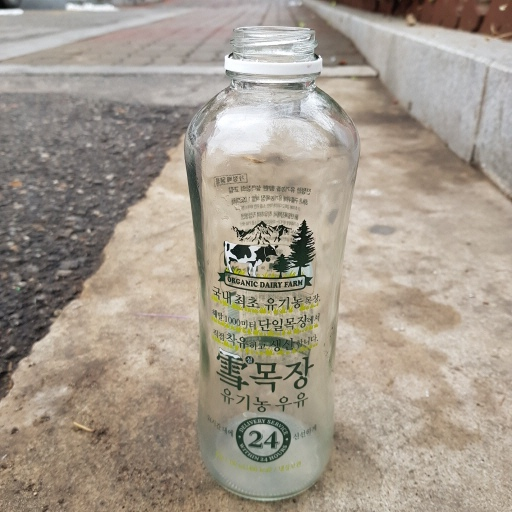Glass_4: (177, 21, 363, 498)
